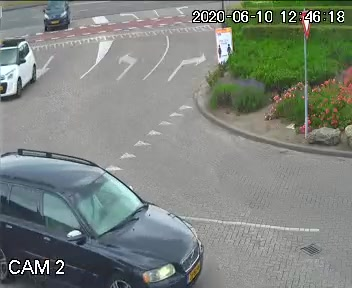car: (0, 145, 220, 288), (0, 36, 47, 109), (42, 0, 72, 36)
